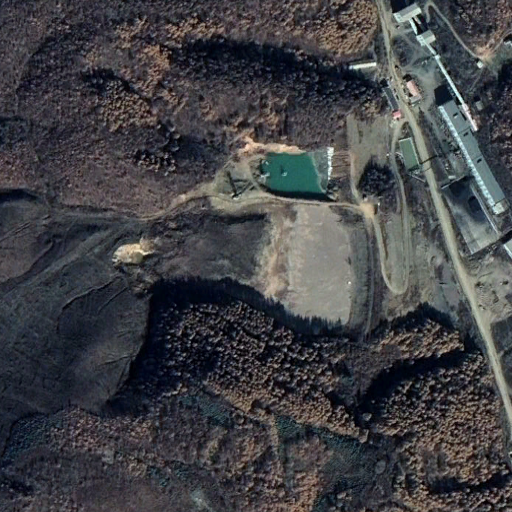tp: (110, 191, 371, 343)
